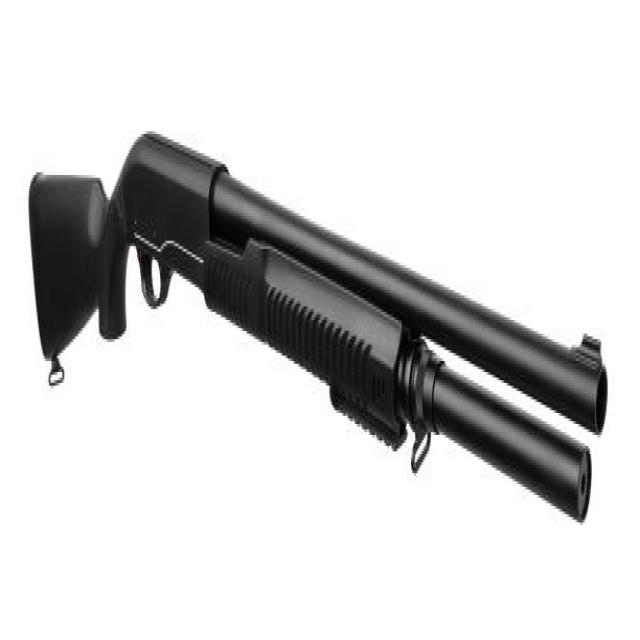rifle: (21, 111, 616, 540)
